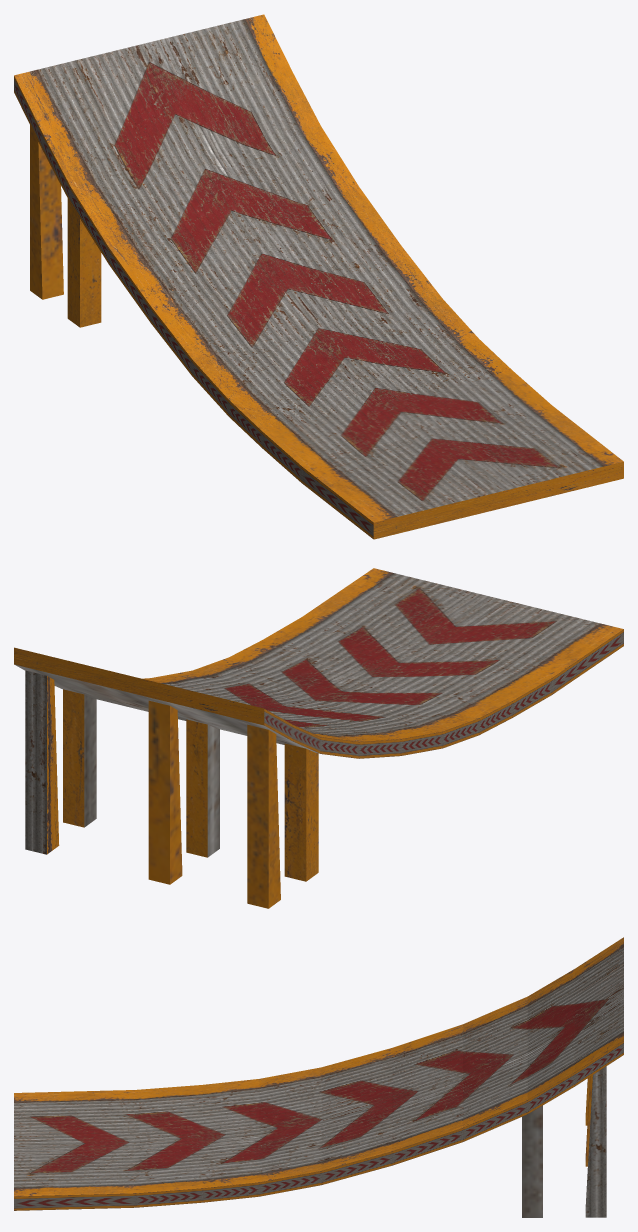
File: industrial_stunt_ramp__racing__drift_game_prop.glb
3 views of the same model, one above another, from view 1: azimuth 30°, elevation 25°; view 2: azimuth 150°, elevation 25°; view 3: azimuth 270°, elevation 25° (orthographic). The views are drawn at different scales.
Visible parts, largest first — view 1: Cube; view 2: Cube; view 3: Cube.
Boxes of the visible parts, x1=… form: Cube: x1=14, y1=14, x2=623, y2=539; Cube: x1=14, y1=568, x2=623, y2=908; Cube: x1=14, y1=937, x2=623, y2=1217.
Bounding box in the file's own units: 6.73 × 5.39 × 16.77.
1 material, 1 textured.
